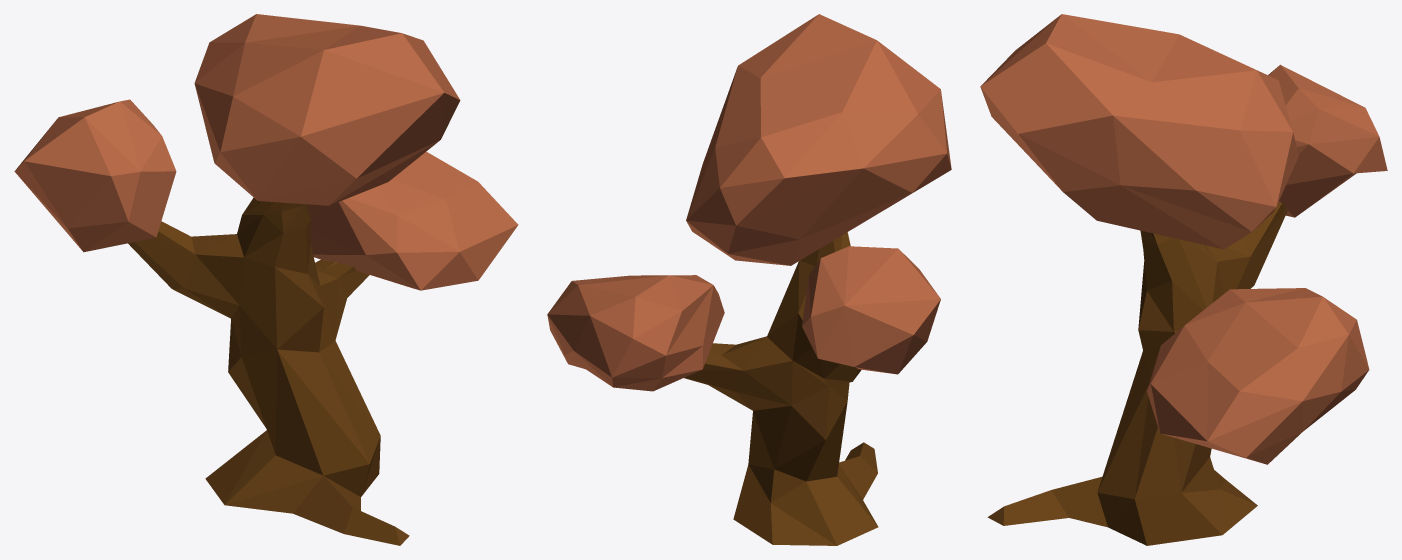
File: co_Tree15_B.fbx
3 renders of one model, left to right at view 1: azimuth 30°, elevation 25°; view 2: azimuth 150°, elevation 25°; view 3: azimuth 270°, elevation 25°, orthographic. The views are drawn at different scales.
Parts seen in each view (by area): view 1: Tree15_B_LOD0; view 2: Tree15_B_LOD0; view 3: Tree15_B_LOD0.
Part boxes in pixels (left/top/right/bottom): Tree15_B_LOD0: left=14, top=14, right=518, bottom=545; Tree15_B_LOD0: left=547, top=14, right=951, bottom=545; Tree15_B_LOD0: left=980, top=14, right=1387, bottom=545.
Size of what is drawn, in the model's own units: 39.46 by 40.45 by 30.52.
